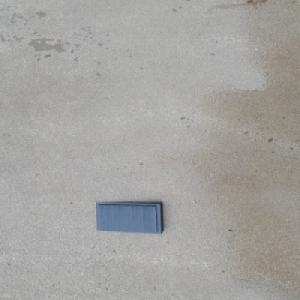PlasticPart: (94, 201, 164, 234)
